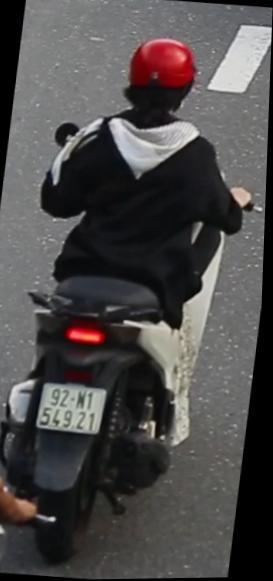LP: (36, 377, 112, 442)
helmet: (117, 30, 204, 125)
